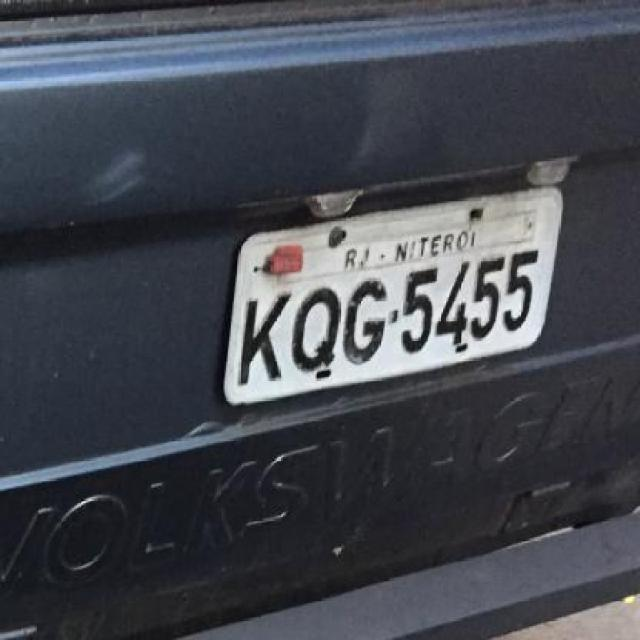old_plate: (213, 178, 572, 412)
